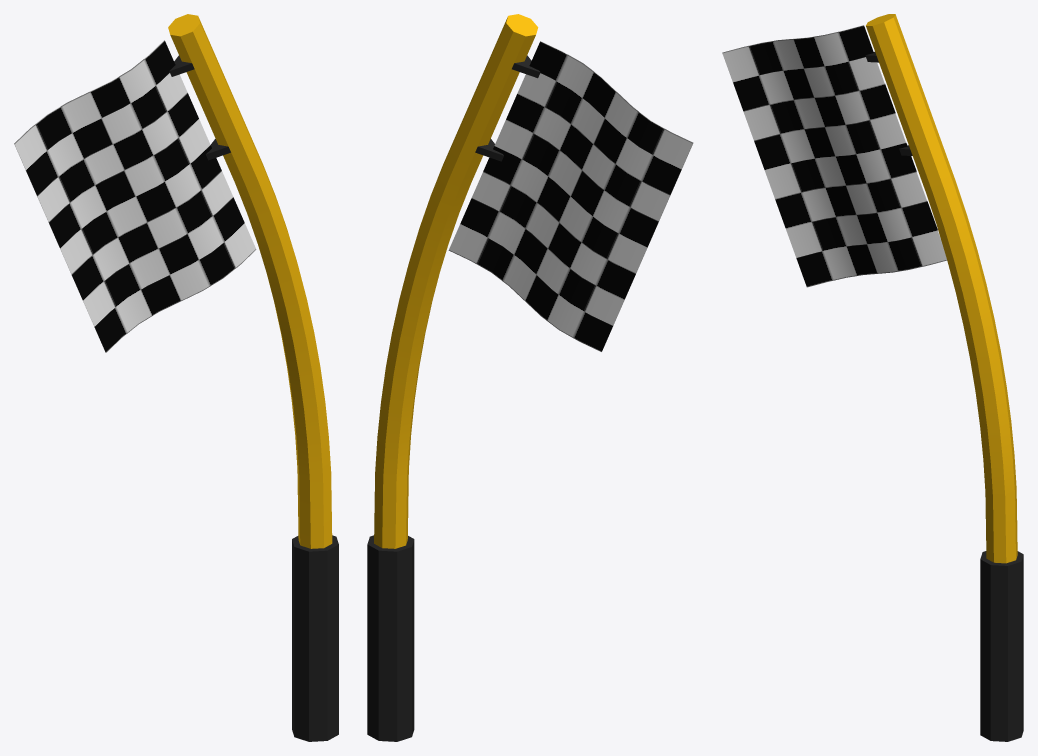
Rendered from prop_levelend_chekeredpole.fbx.
3 renders of one model, left to right at view 1: azimuth 30°, elevation 25°; view 2: azimuth 150°, elevation 25°; view 3: azimuth 330°, elevation 25°, orthographic. The views are drawn at different scales.
Visible parts, largest first — view 1: flag, pole; view 2: flag, pole; view 3: flag, pole.
Part boxes in pixels (<box>): flag: <box>14,40,256,352</box>; pole: <box>168,14,338,741</box>; flag: <box>448,41,693,351</box>; pole: <box>367,14,540,741</box>; flag: <box>722,25,947,287</box>; pole: <box>865,14,1023,741</box>.
Size of the model in its own units: 533 by 1174 by 69.48.
Materials: 1 (1 with a texture image).
